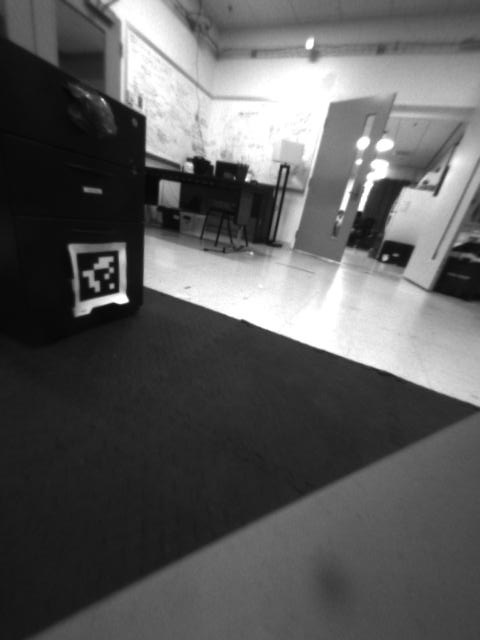drawer: (49, 79, 120, 156)
